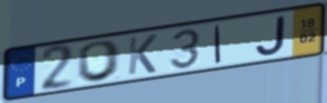2: (39, 41, 75, 96)
3: (166, 26, 204, 70)
I: (213, 23, 223, 65)
J: (253, 14, 287, 57)
K: (126, 33, 160, 77)
O: (75, 39, 124, 84)
